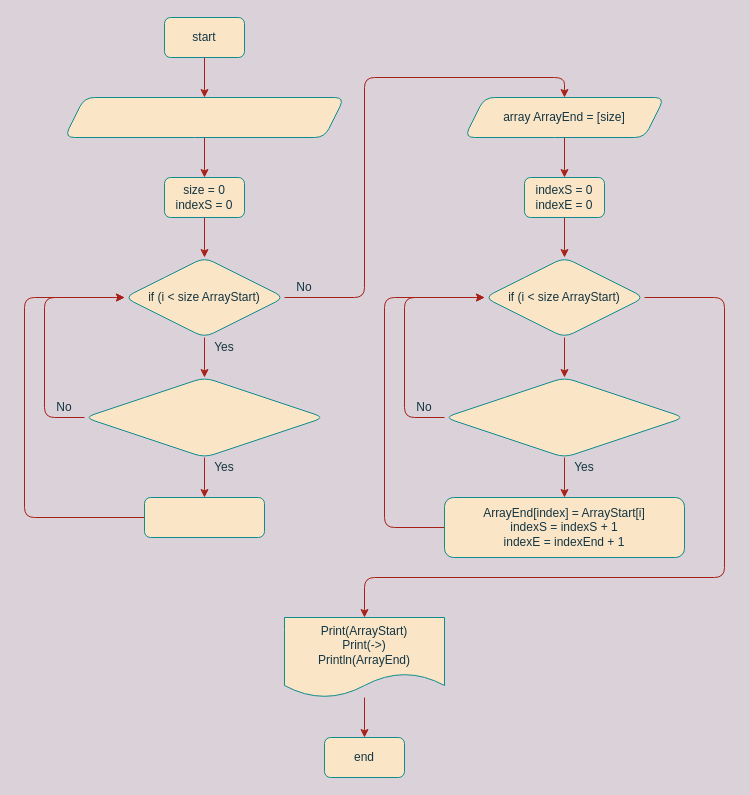
Image size: 750x795. Some labels were removed from this diagram. Here are the shapes that lost their labels. From the top down, the centre of each, then its label:
[204,117]: array ArrayStart = {"hello", "2", "world", ":-)"}
[204,417]: if (length element ArrayStart <= 3)
[564,417]: if (length element ArrayStart) <= 3)
[204,517]: size = size + 1 indexS = indexS + 1
